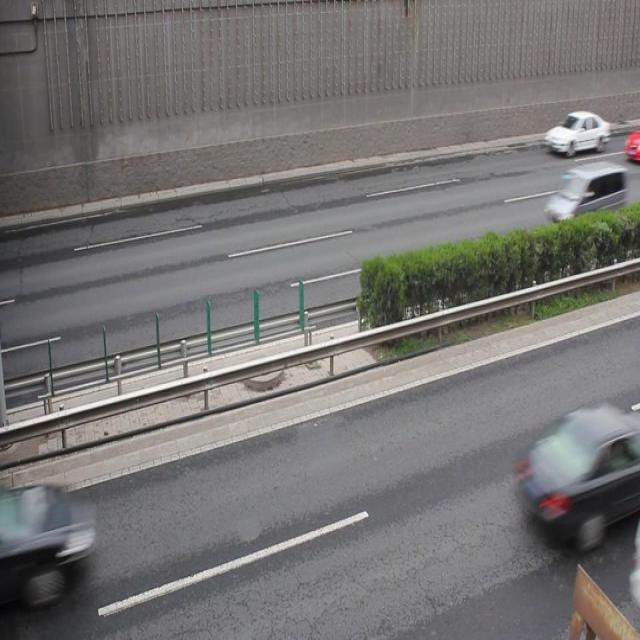car: (517, 405, 640, 550), (544, 110, 608, 156)
truck: (544, 162, 624, 230)
